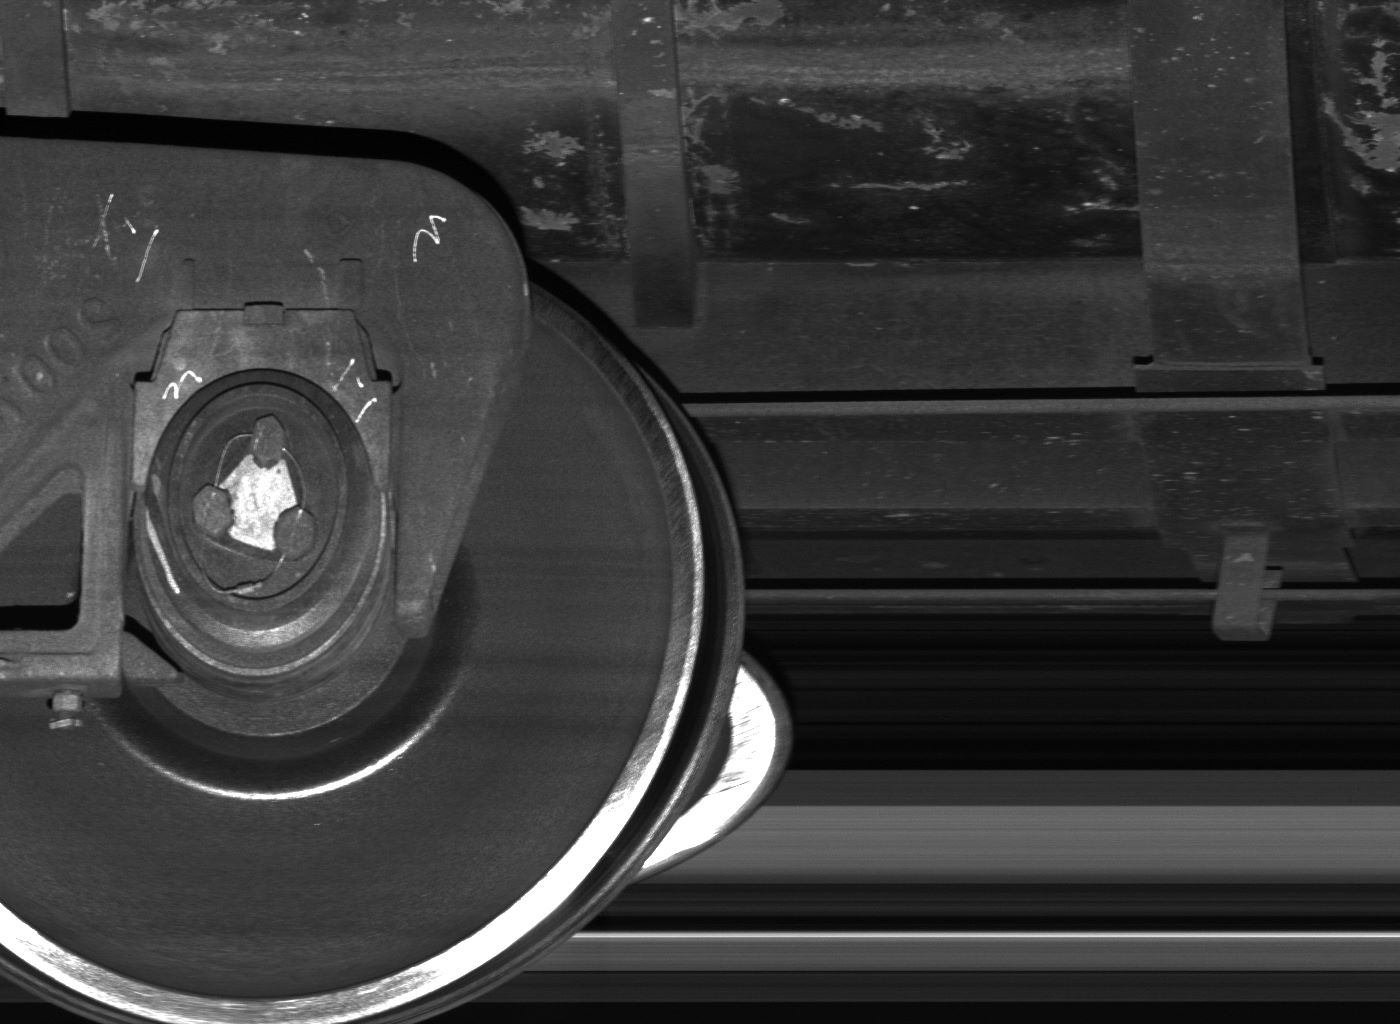normal: (1211, 532, 1282, 644)
